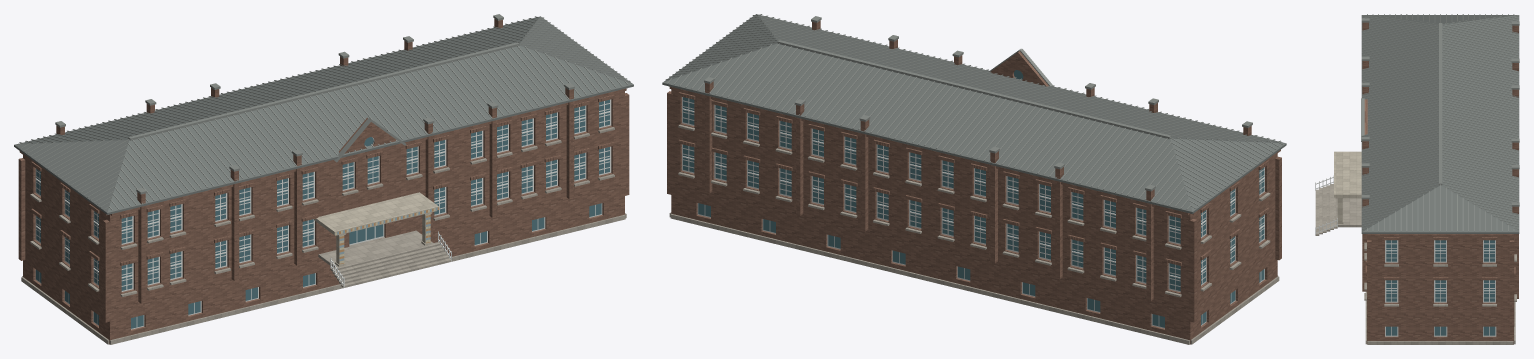
The picture shows the model from 3 angles, left to right: view 1: azimuth 30°, elevation 25°; view 2: azimuth 150°, elevation 25°; view 3: azimuth 270°, elevation 25°; orthographic projection. The views are drawn at different scales.
Visible parts, largest first — view 1: history__oldbrick, history__roofTile, history__roofRidge, history__historyglass, history__whiteframe, history__plinth, history__porchstone, history__stair-main, history__threshold-main; view 2: history__oldbrick, history__roofTile, history__roofRidge, history__historyglass, history__whiteframe, history__plinth; view 3: history__roofTile, history__roofRidge, history__oldbrick, history__historyglass, history__porchstone, history__whiteframe, history__plinth, history__stair-main, history__threshold-main.
Boxes of the visible parts, <box> form: history__oldbrick: <box>18,18,629,344</box>; history__roofTile: <box>14,16,633,214</box>; history__roofRidge: <box>17,14,630,210</box>; history__historyglass: <box>36,99,609,328</box>; history__whiteframe: <box>35,99,611,329</box>; history__plinth: <box>21,127,626,344</box>; history__porchstone: <box>314,192,438,266</box>; history__stair-main: <box>330,242,451,287</box>; history__threshold-main: <box>318,230,434,267</box>; history__oldbrick: <box>667,20,1281,344</box>; history__roofTile: <box>662,14,1286,213</box>; history__roofRidge: <box>665,14,1283,209</box>; history__historyglass: <box>683,70,1264,327</box>; history__whiteframe: <box>682,97,1264,328</box>; history__plinth: <box>669,124,1279,344</box>; history__roofTile: <box>1361,15,1519,233</box>; history__roofRidge: <box>1361,14,1519,231</box>; history__oldbrick: <box>1362,22,1518,344</box>; history__historyglass: <box>1386,240,1495,335</box>; history__porchstone: <box>1334,151,1361,223</box>; history__whiteframe: <box>1315,175,1496,336</box>; history__plinth: <box>1364,242,1516,344</box>; history__stair-main: <box>1315,184,1337,235</box>; history__threshold-main: <box>1338,198,1361,227</box>.
Bounding box in the file's own units: 49.04 × 14.67 × 19.46.
Materials: 10 (3 with a texture image).
